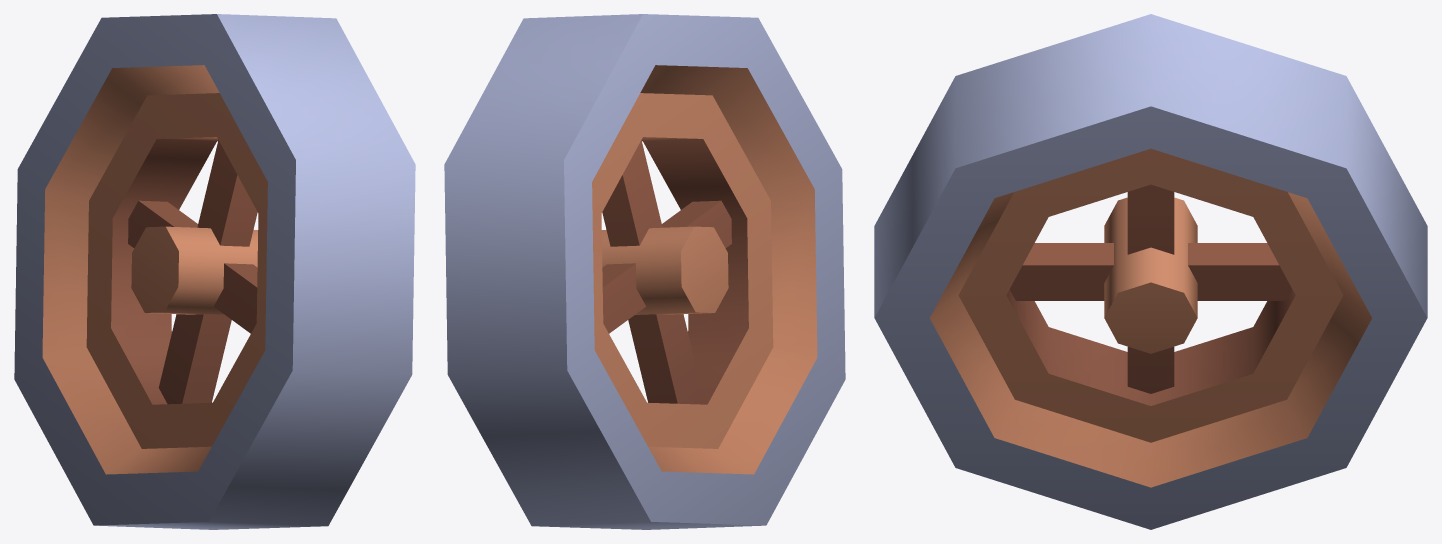
Rendered from town_wheel.glb.
3 views of the same model, side by side, from view 1: azimuth 30°, elevation 25°; view 2: azimuth 150°, elevation 25°; view 3: azimuth 270°, elevation 25° (orthographic).
Parts seen in each view (by area): view 1: wheel; view 2: wheel; view 3: wheel.
Boxes of the visible parts, x1,y1,x2,y2 form: wheel: (14,14,415,529); wheel: (444,14,845,529); wheel: (874,14,1427,529).
Size of the model in its own units: 0.5722 by 1.16 by 1.12.
Materials: 1 (1 with a texture image).
